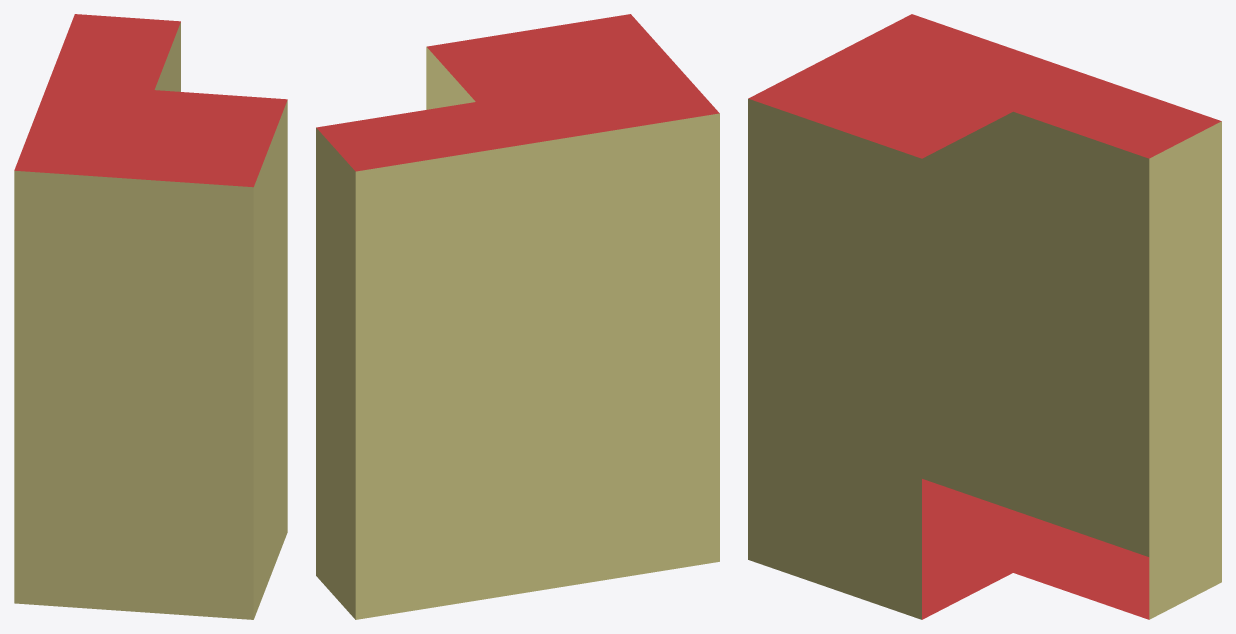
The picture shows the model from 3 angles, left to right: view 1: azimuth 30°, elevation 25°; view 2: azimuth 150°, elevation 25°; view 3: azimuth 270°, elevation 25°; orthographic projection. The views are drawn at different scales.
Size of the model in its own units: 4.3 by 5.94 by 6.38.
